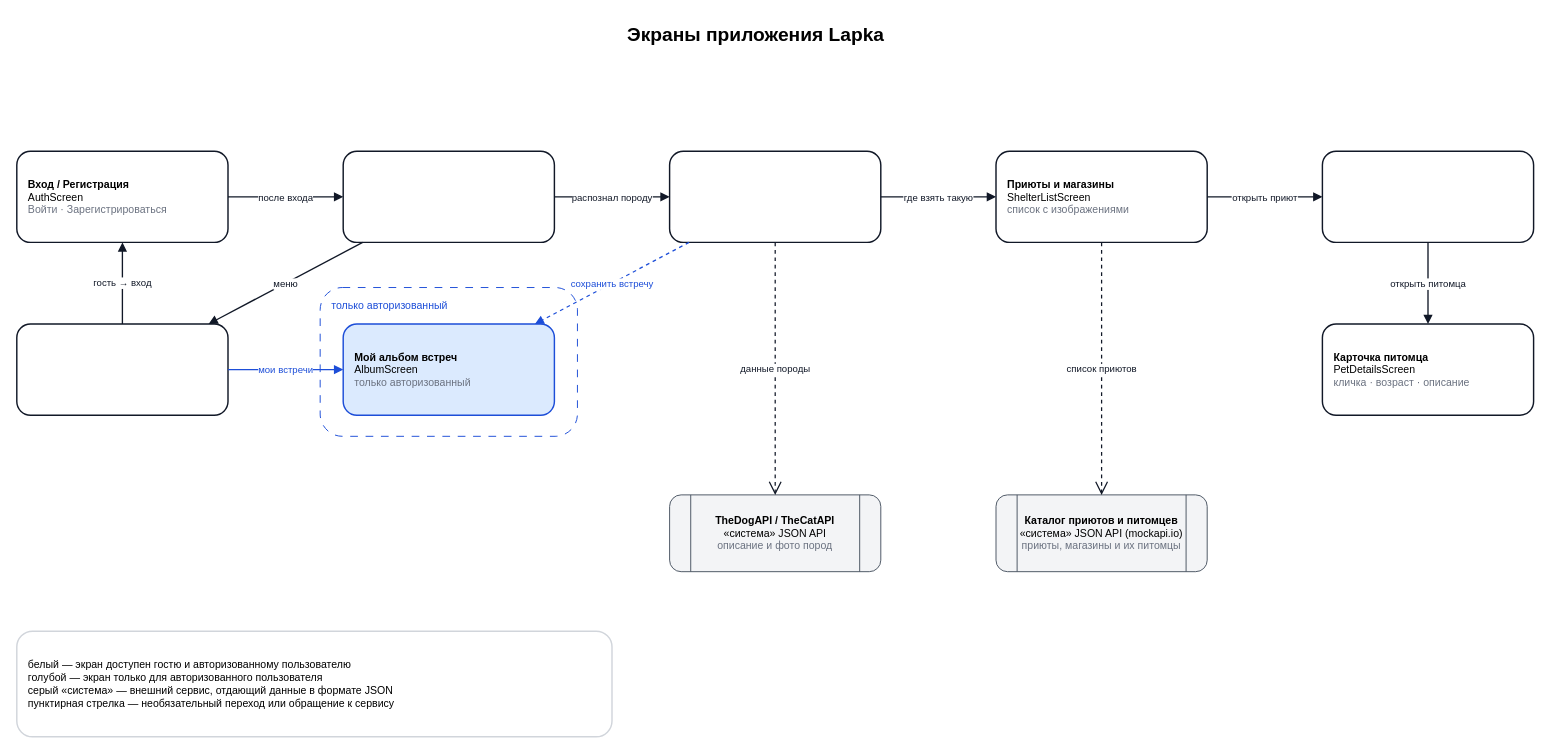
Image size: 1551x754. Some labels were removed from this diagram. The shapes that lost their labels are listed below. From the top down, each one's box as (x1, y1, x2, y2) in pixels, then its label:
(342, 150, 555, 243): Распознать породу RecognizeScreen камера / галерея · TFLite
(668, 150, 881, 243): Карточка породы BreedDetailsScreen фото · темперамент · уход
(1321, 150, 1534, 243): Страница приюта ShelterDetailsScreen контакты · список питомцев
(16, 323, 228, 415): Профиль ProfileScreen гость: войти · юзер: имя, выход
